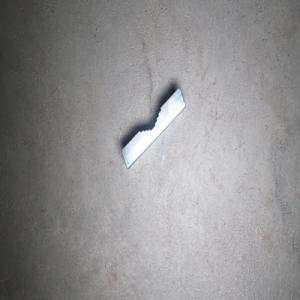ClampPart: (121, 86, 186, 170)
